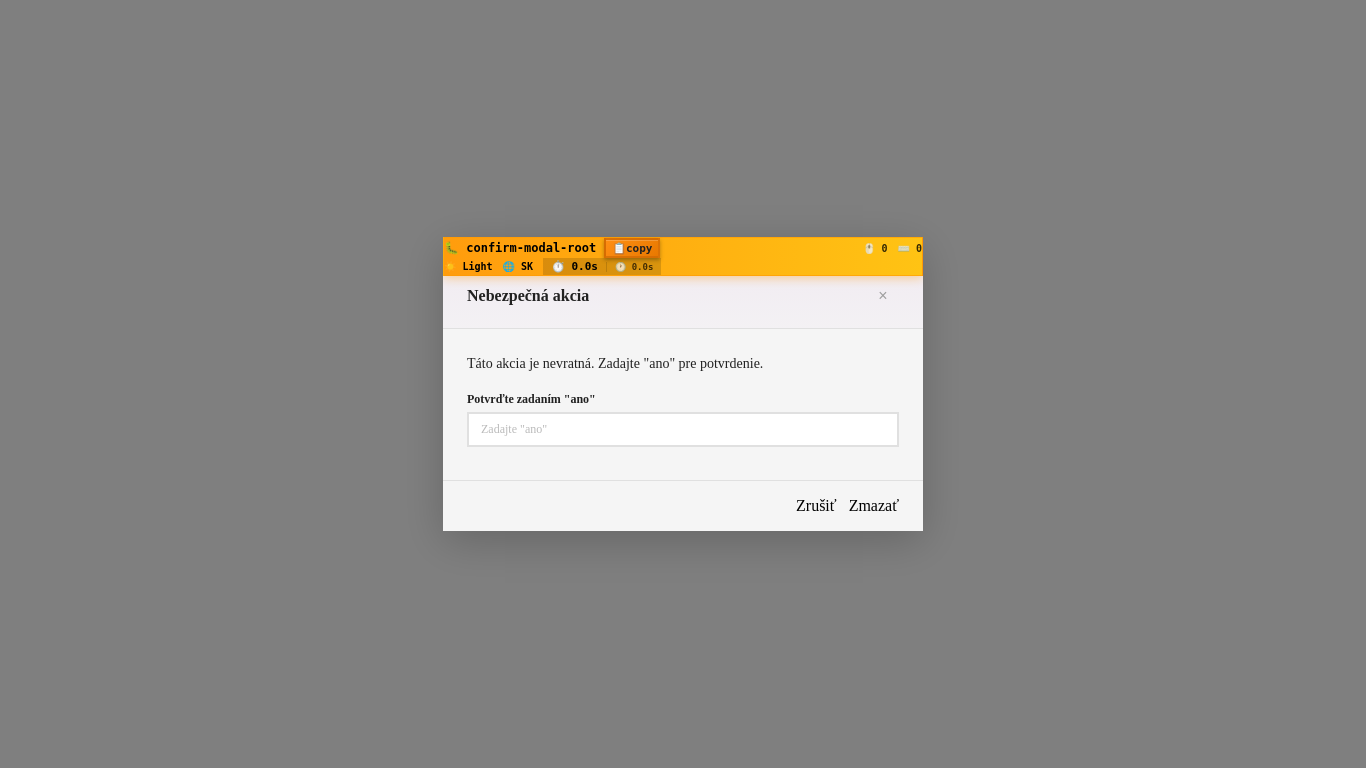
ConfirmModal › danger mode shows error on wrong keyword
In the field: (683, 430) [467,412,899,447], type "wrong"
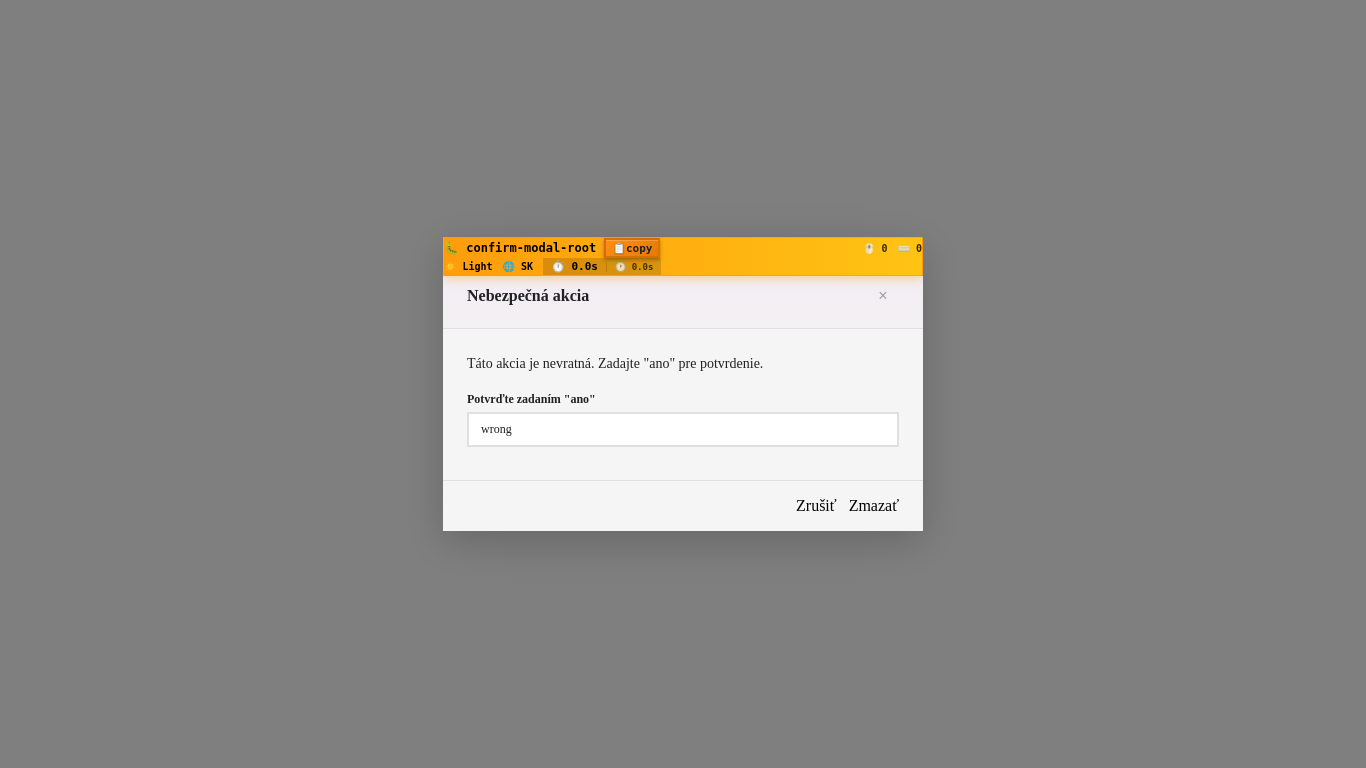
Click the button "Zmazať": (874, 506) [849,497,899,515]
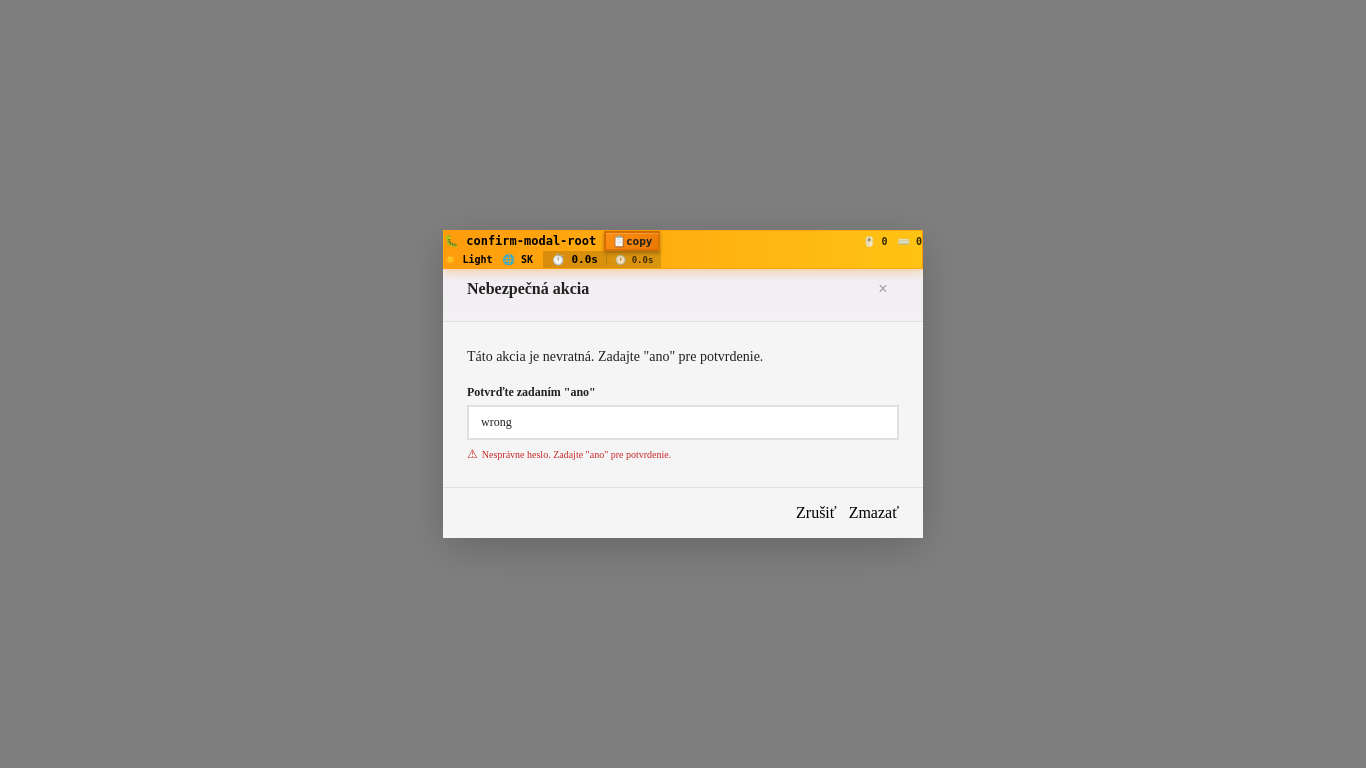
Check: the text "⚠ Nesprávne heslo. Zadajte \"ano\" pre potvrdenie." is shown, box [467,447,671,461]
